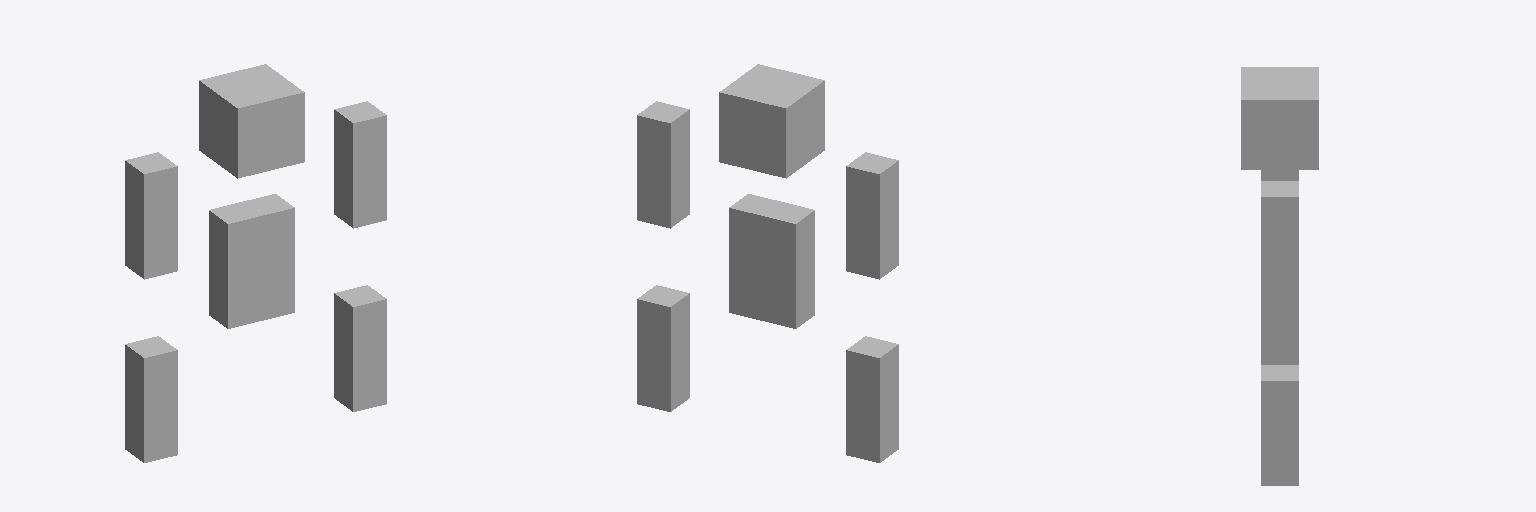
The model's file is Steve.obj.
3 views of the same model, side by side, from view 1: azimuth 30°, elevation 25°; view 2: azimuth 150°, elevation 25°; view 3: azimuth 270°, elevation 25° (orthographic).
Parts seen in each view (by area): view 1: object 1; view 2: object 1; view 3: object 1.
Boxes of the visible parts, x1,y1,x2,y2 form: object 1: [125, 64, 386, 462]; object 1: [637, 64, 898, 462]; object 1: [1241, 67, 1318, 485].
Size of the model in its own units: 2.9 by 3.9 by 0.8.